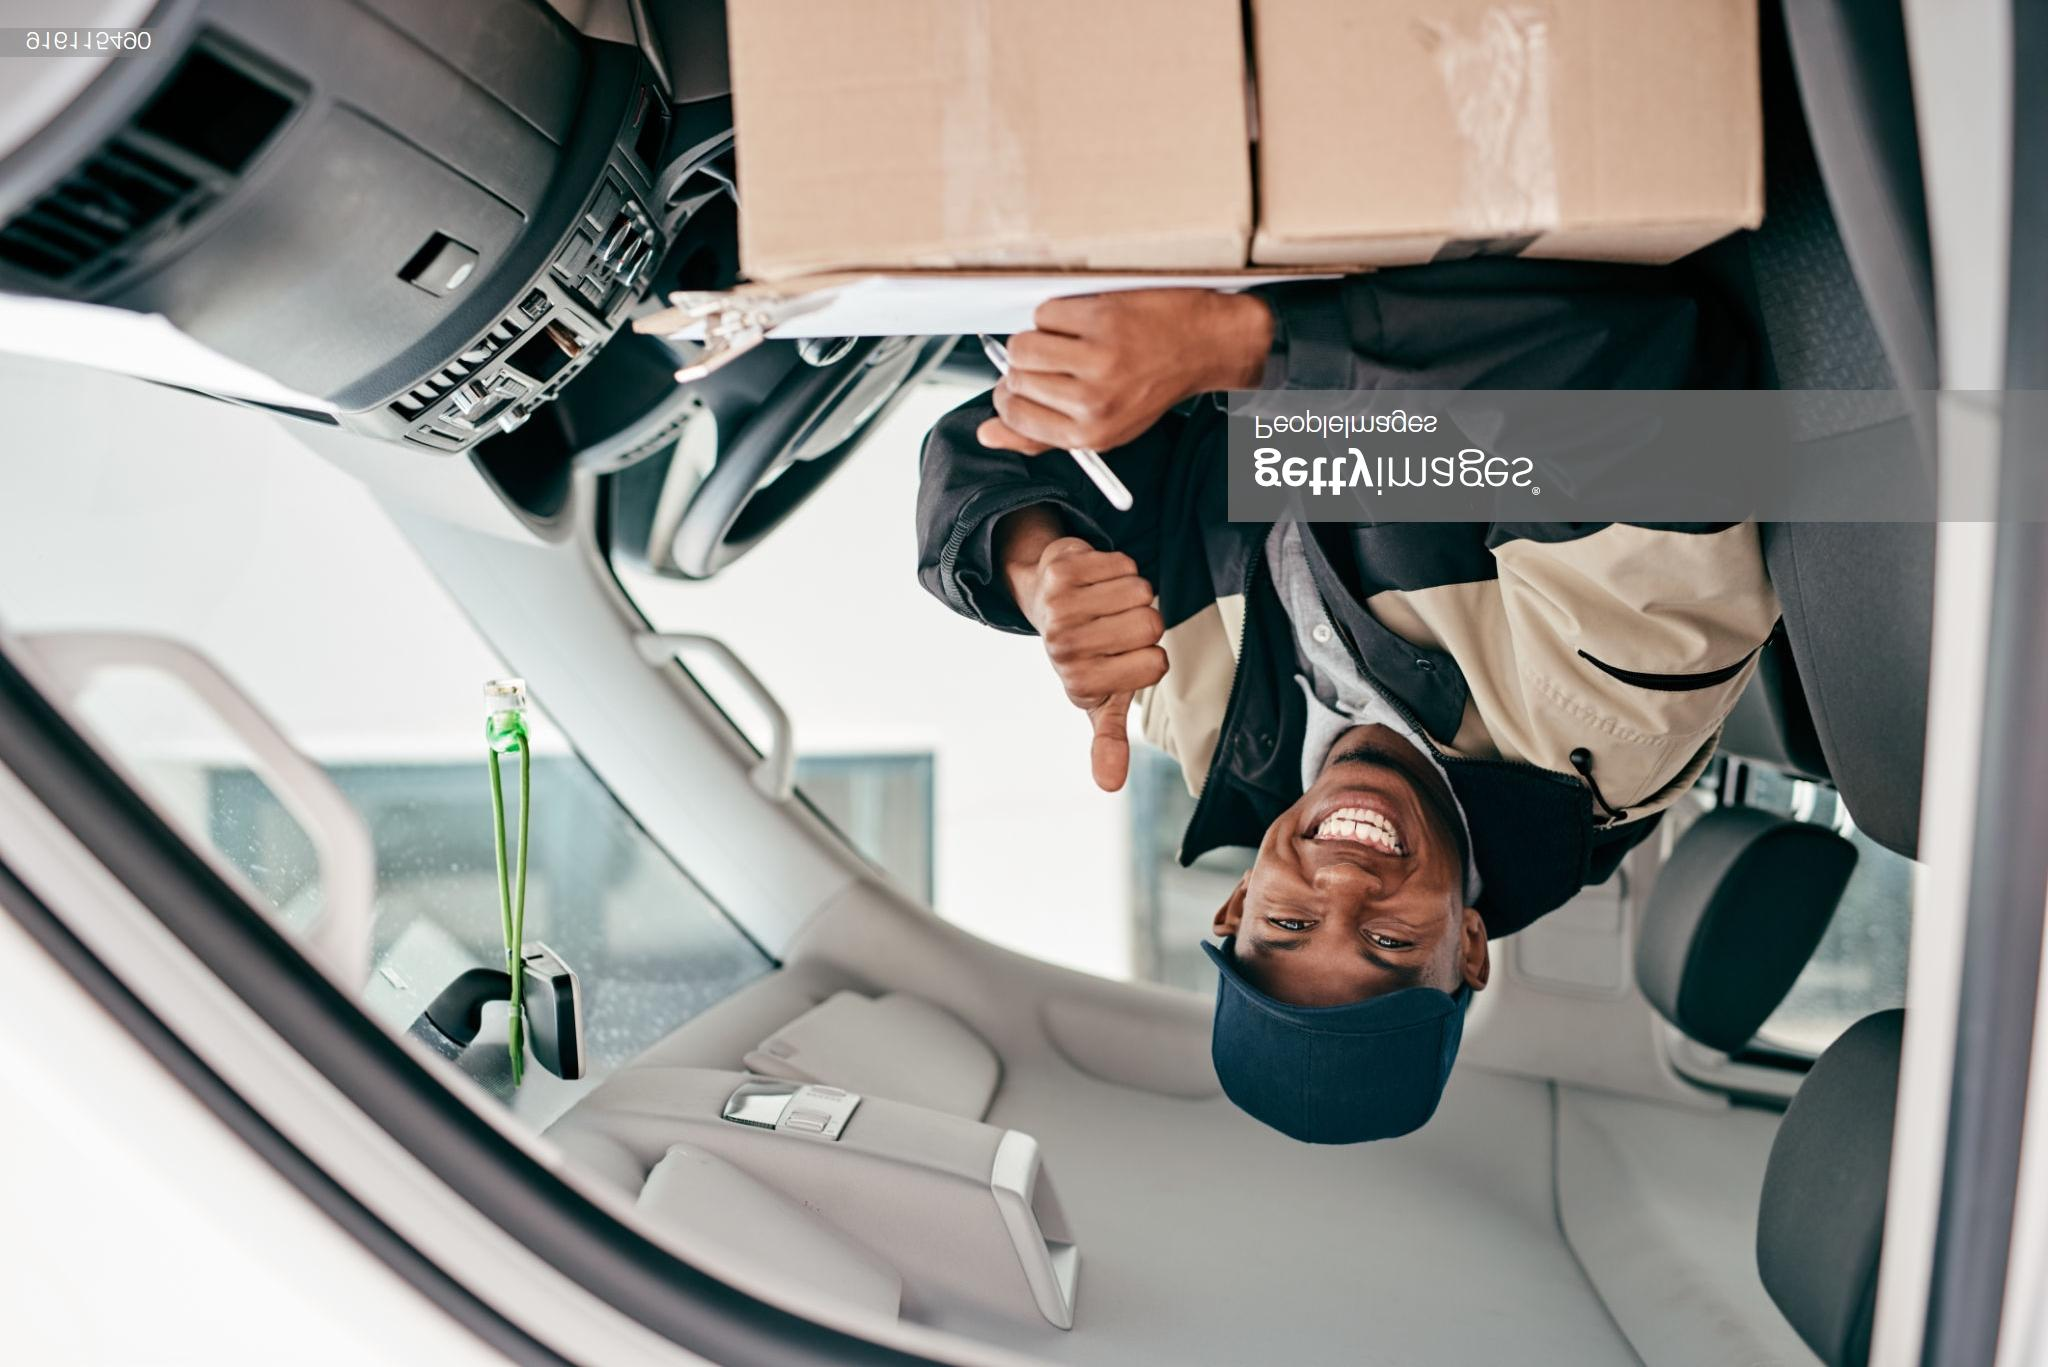thumbsdown: (1042, 551, 1170, 793)
